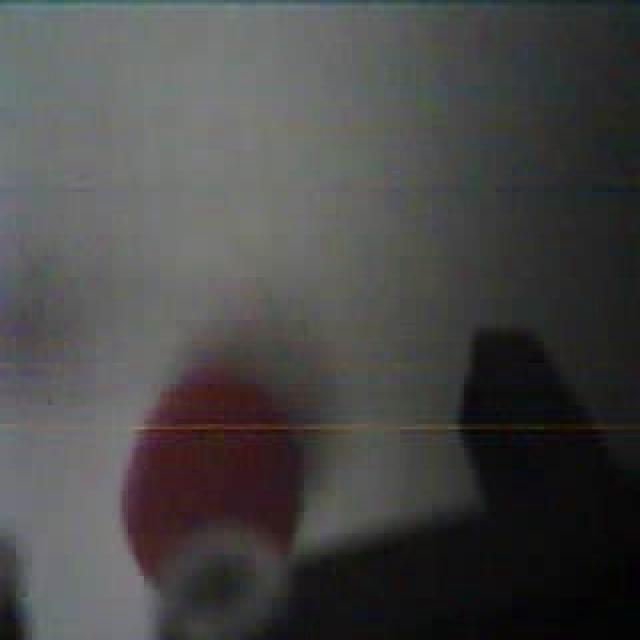red_ball: (116, 342, 314, 620)
